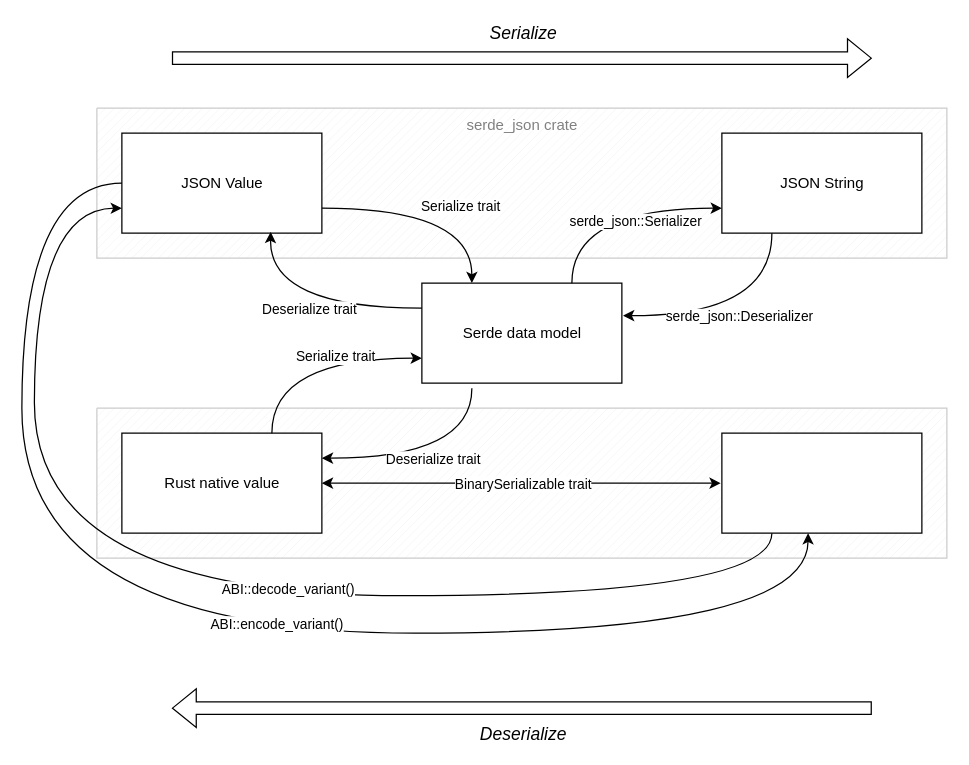
The diagram is 969 pixels wide and 765 high, and some of its shapes have lost their labels. The shapes that lost their labels are listed below. From the top down, each one's box as (x1, y1, x2, y2) in pixels, then its label:
(96, 407, 947, 558): antelope crate
(721, 432, 922, 533): ABI binary stream
